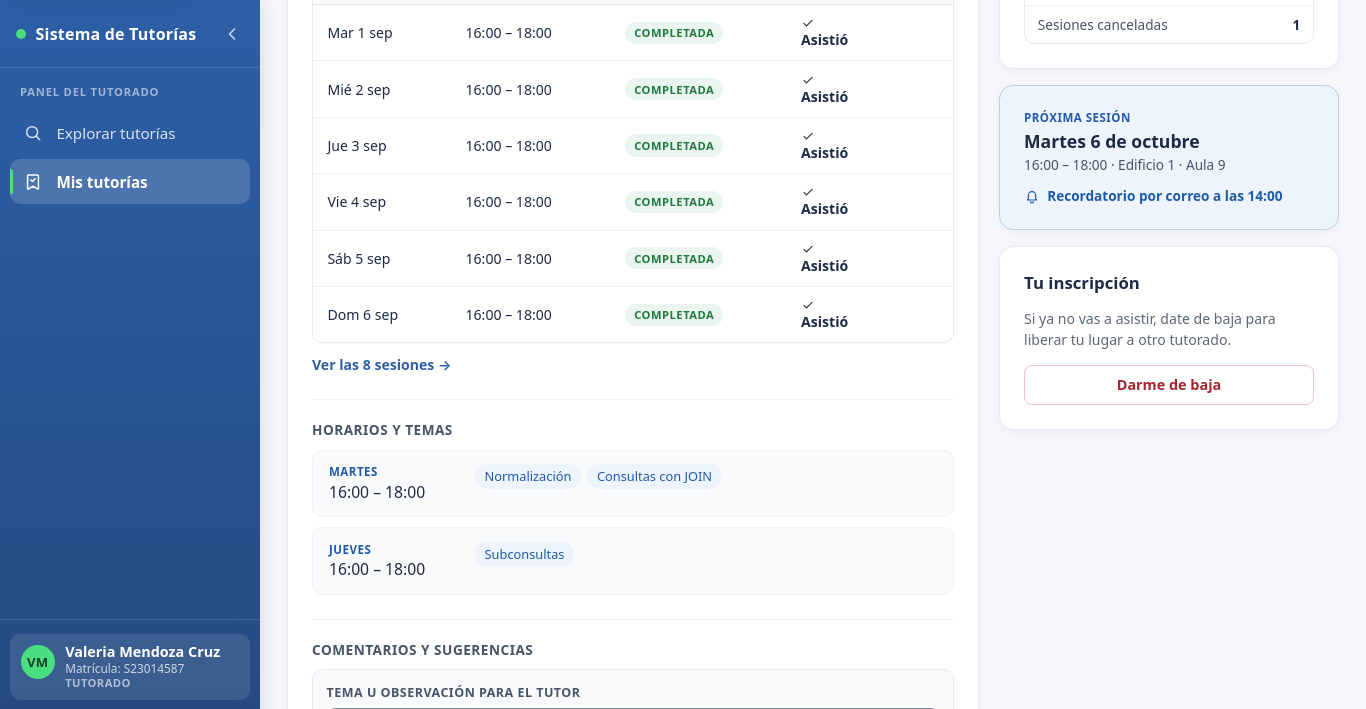
Mi asistencia (08) › despliega todas las sesiones cuando hay mas de seis
(page scrolled)
Step 1. Click the button "Ver las 8 sesiones →" → (382, 365), box [312, 355, 451, 374]
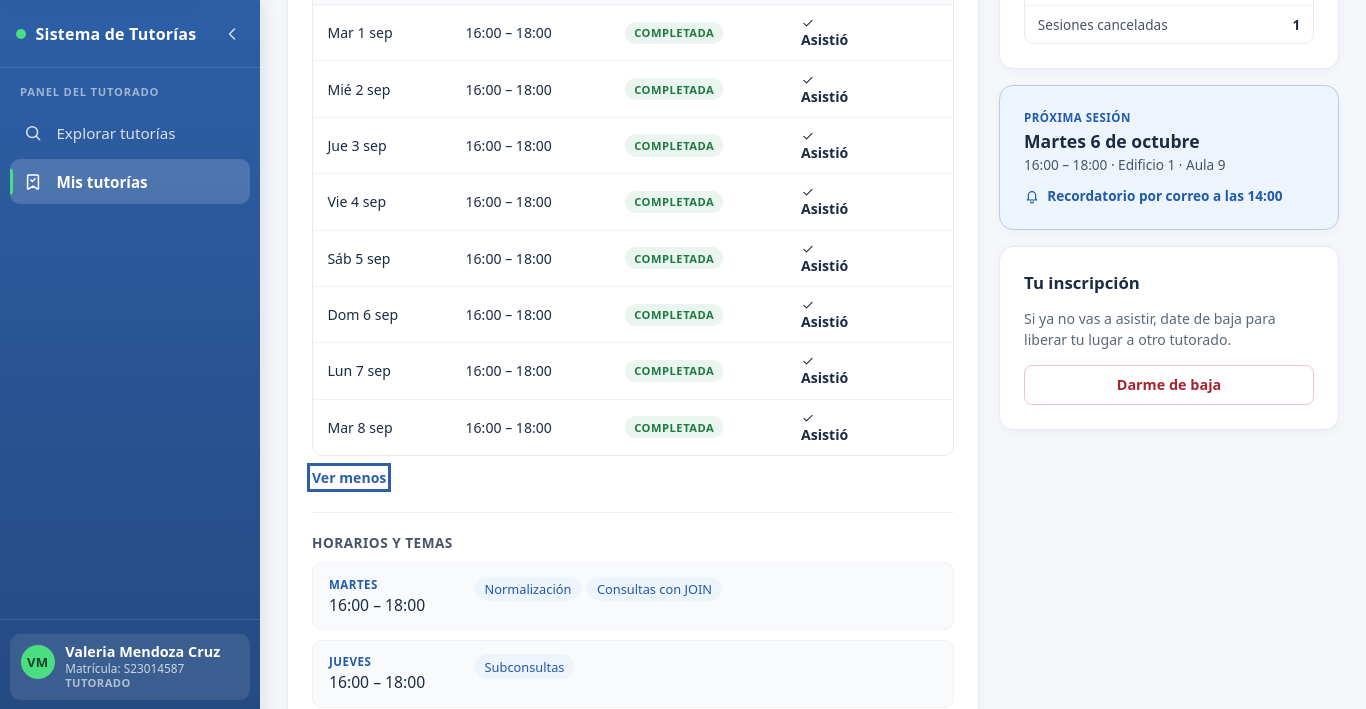
Result: the number of rows is 9
